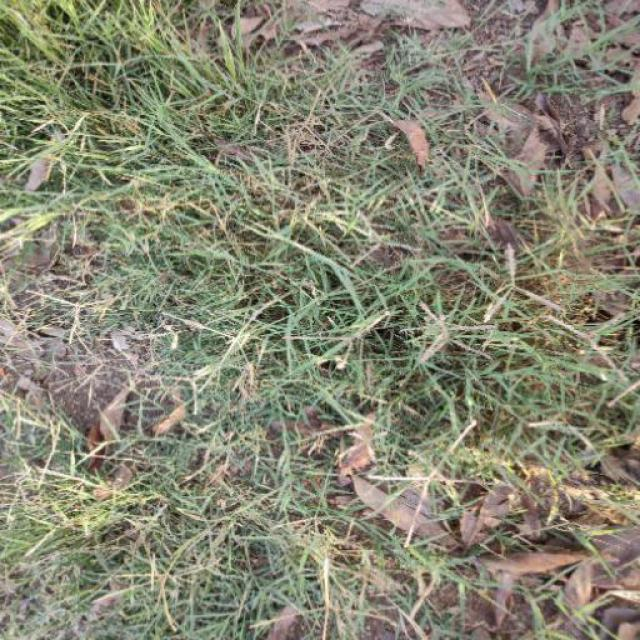weed: (30, 11, 604, 591)
